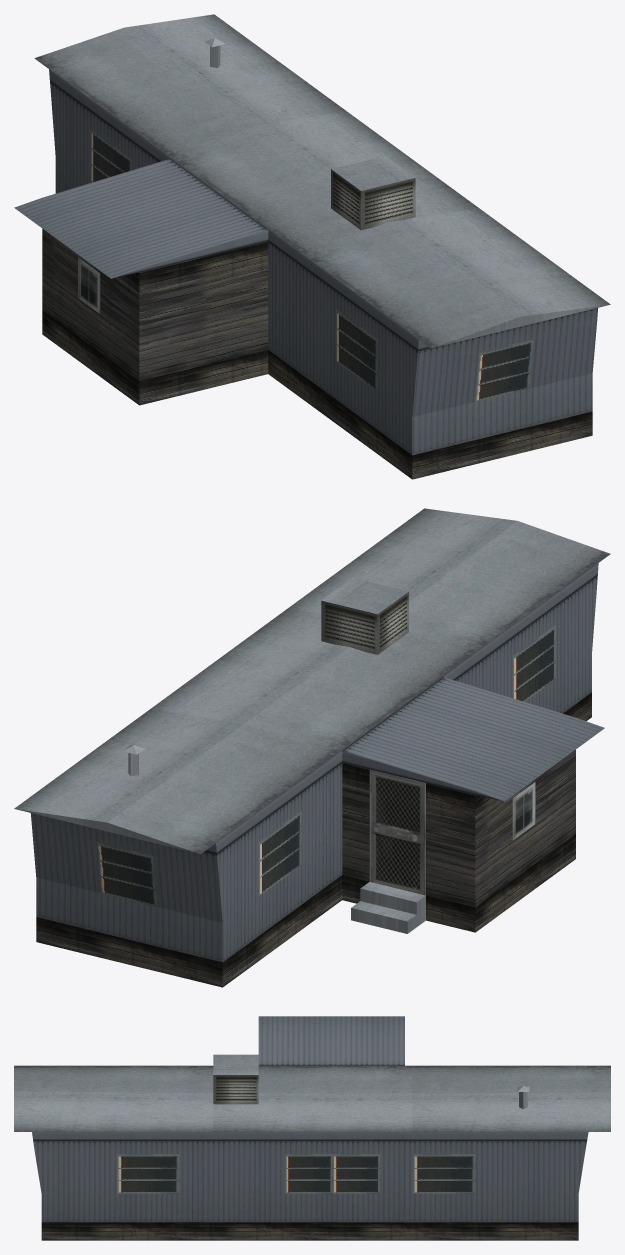
Rendered from moresfnshit29.obj.
3 renders of one model, top to bottom at view 1: azimuth 30°, elevation 25°; view 2: azimuth 150°, elevation 25°; view 3: azimuth 270°, elevation 25°, orthographic. The views are drawn at different scales.
Visible parts, largest first — view 1: moresfnshit29; view 2: moresfnshit29; view 3: moresfnshit29.
Boxes of the visible parts, bbox=[...] form: moresfnshit29: bbox=[14, 14, 610, 479]; moresfnshit29: bbox=[14, 508, 610, 987]; moresfnshit29: bbox=[14, 1016, 610, 1240].
Bounding box in the file's own units: 6.55 × 3.52 × 13.34.
7 materials, 7 textured.
